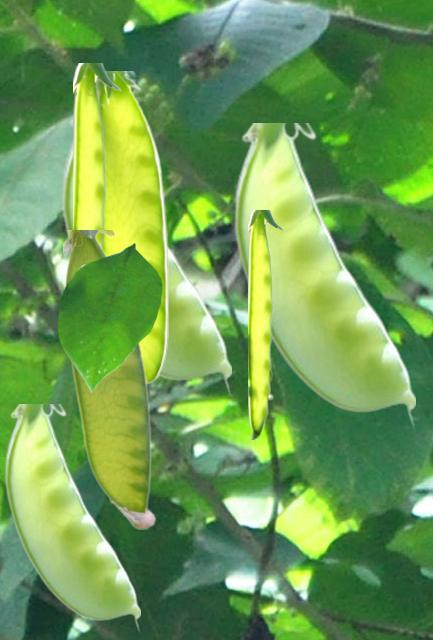pea: (233, 123, 414, 428), (61, 113, 230, 395), (4, 404, 139, 632), (63, 230, 155, 528), (98, 71, 167, 386), (73, 63, 120, 246), (248, 210, 283, 438)
